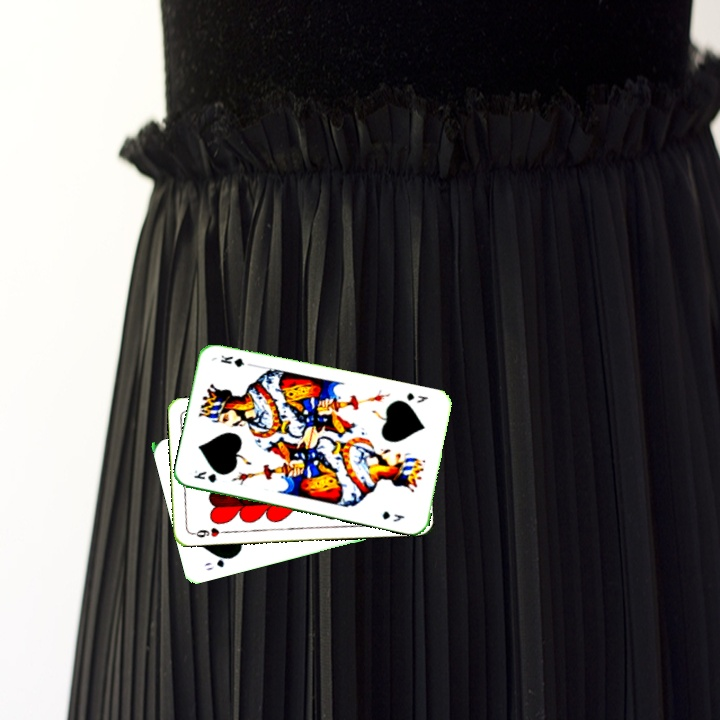GK: (190, 466, 219, 485), (403, 388, 431, 405)
GO: (200, 552, 237, 573)
H9: (188, 524, 229, 540)
